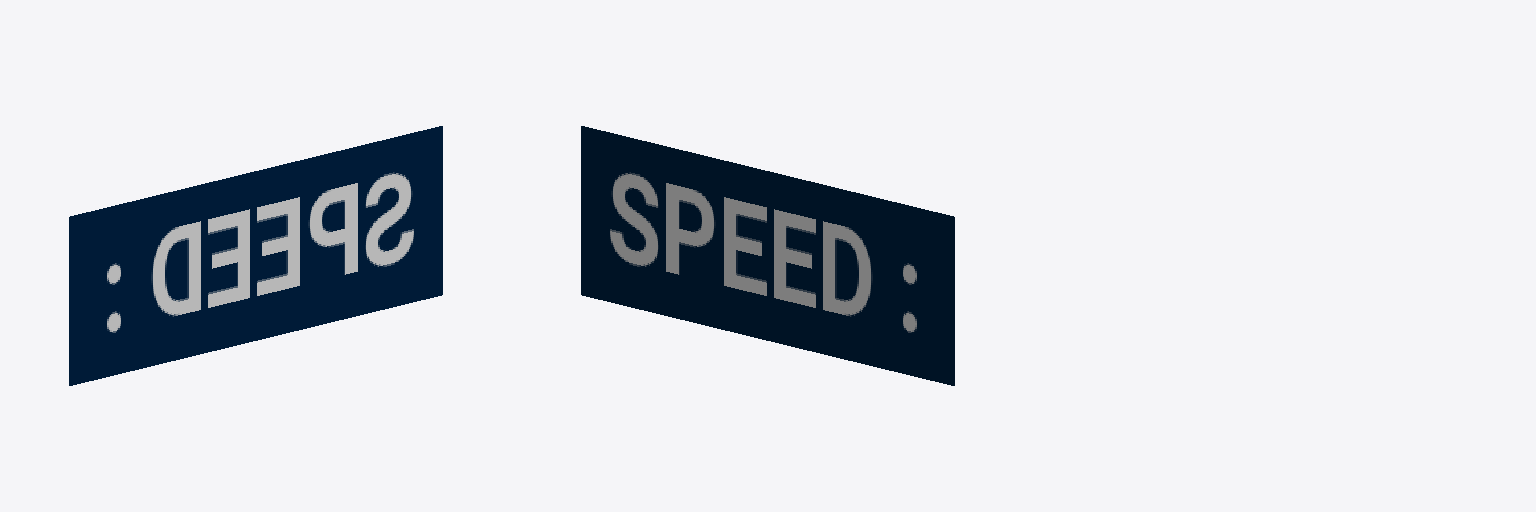
The picture shows the model from 3 angles: view 1: azimuth 30°, elevation 25°; view 2: azimuth 150°, elevation 25°; view 3: azimuth 270°, elevation 25°; orthographic projection.
Parts seen in each view (by area): view 1: Sphere; view 2: Sphere; view 3: none.
Part boxes in pixels (x1,y1,x2,y2): Sphere: (69,126,442,385); Sphere: (581,126,954,385).
Size of the model in its own units: 1.2 by 0.52 by 0.
Materials: 1 (1 with a texture image).